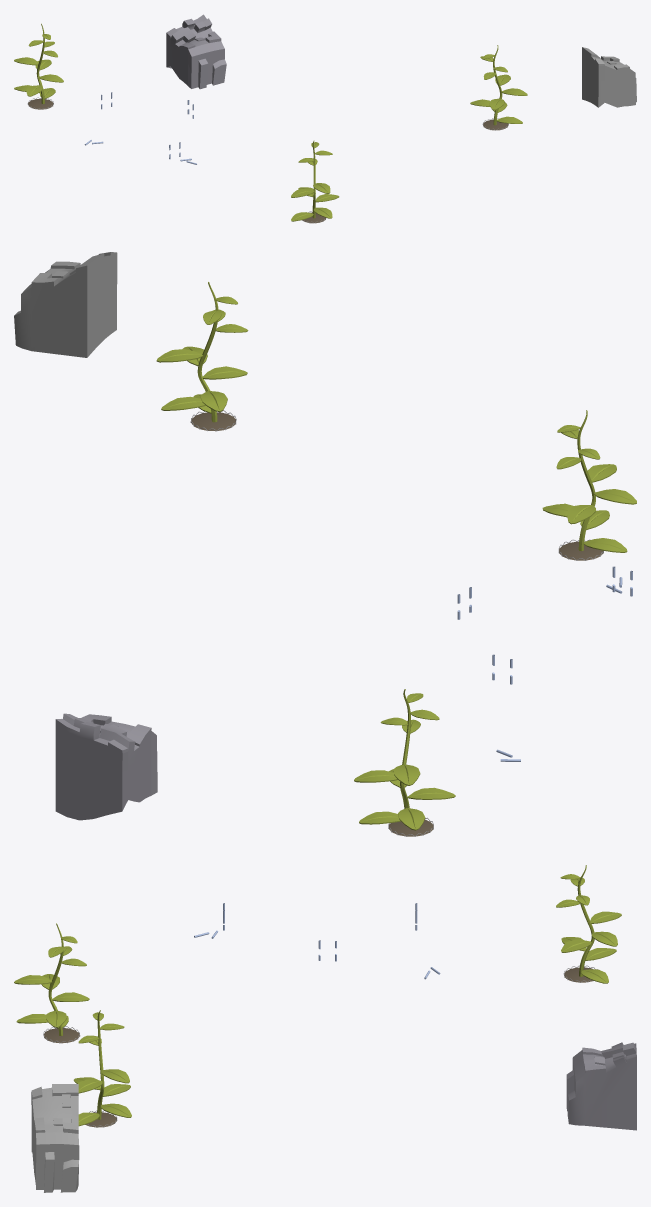
File: Blocking_Zone1_ElementsPresent.fbx
The picture shows the model from 3 angles, top to bottom: view 1: azimuth 30°, elevation 25°; view 2: azimuth 150°, elevation 25°; view 3: azimuth 270°, elevation 25°; orthographic projection. The views are drawn at different scales.
Parts seen in each view (by area): view 1: TasDeDebris.002, TasDeDebris.001, PlanteTige.002, PlanteTige.003, PlanteTige.001; view 2: TasDeDebris.002, TasDeDebris.001, PlanteTige.001, PlanteTige.003, PlanteTige.002; view 3: TasDeDebris.002, TasDeDebris.001, PlanteTige.002, PlanteTige.001, PlanteTige.003, ZoneGraine.005.
Part boxes in pixels (x1,y1,x2,y2): TasDeDebris.002: (166,14,226,89); TasDeDebris.001: (582,47,636,107); PlanteTige.002: (28,23,57,103); PlanteTige.003: (480,45,507,125); PlanteTige.001: (298,140,332,218); TasDeDebris.002: (55,713,157,820); TasDeDebris.001: (14,252,117,357); PlanteTige.001: (556,410,600,551); PlanteTige.003: (197,282,248,422); PlanteTige.002: (380,689,439,825); TasDeDebris.002: (566,1042,636,1130); TasDeDebris.001: (31,1084,79,1192); PlanteTige.002: (556,865,594,976); PlanteTige.001: (48,923,86,1035); PlanteTige.003: (78,1010,124,1119); ZoneGraine.005: (43,1026,80,1043).
Size of the model in its own units: 37.64 by 11.69 by 33.99.
